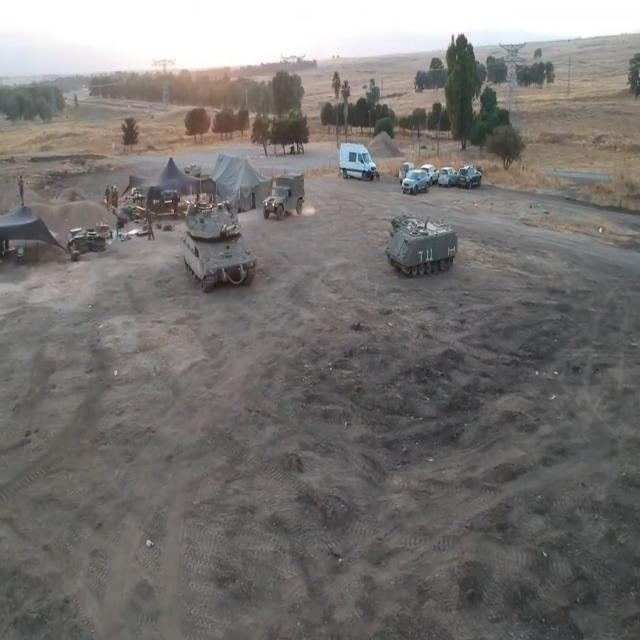tank: (172, 185, 262, 306)
